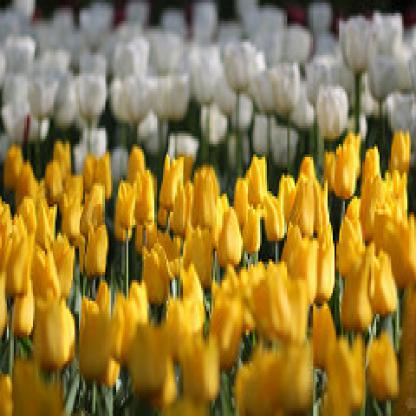TULIP: (7, 95, 409, 401)
